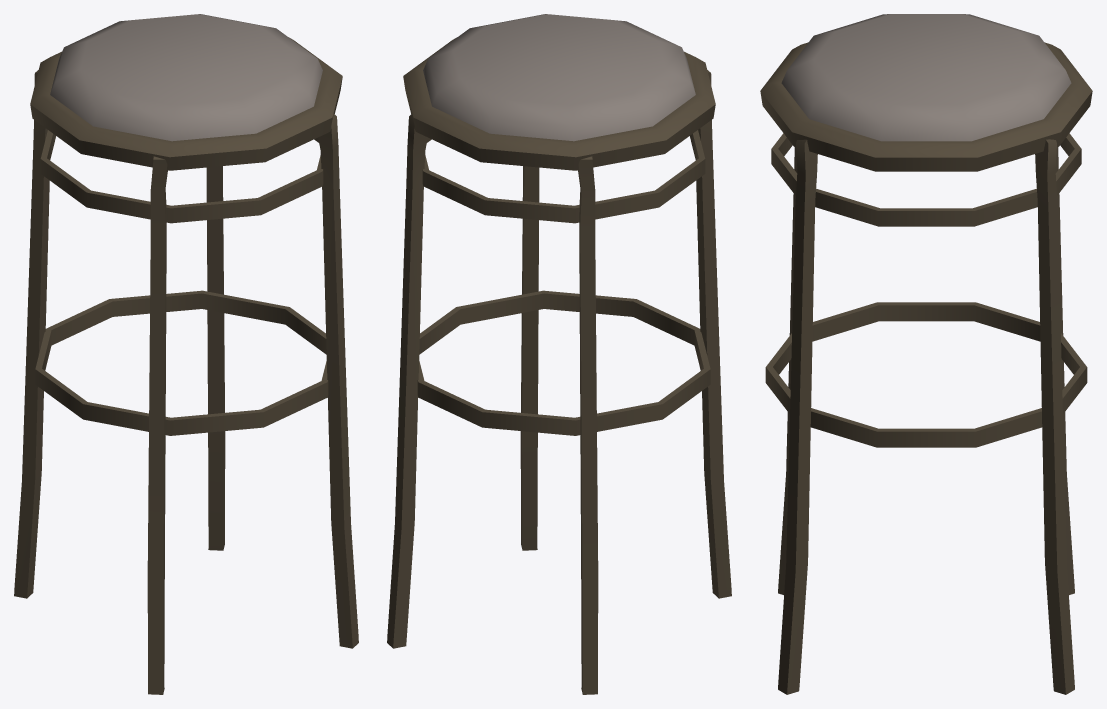
Rendered from Stool.glb.
3 renders of one model, left to right at view 1: azimuth 30°, elevation 25°; view 2: azimuth 150°, elevation 25°; view 3: azimuth 270°, elevation 25°, orthographic. The views are drawn at different scales.
Visible parts, largest first — view 1: Stool_Cylinder.028; view 2: Stool_Cylinder.028; view 3: Stool_Cylinder.028.
Boxes of the visible parts, x1,y1,x2,y2 form: Stool_Cylinder.028: [14, 14, 358, 694]; Stool_Cylinder.028: [387, 14, 731, 694]; Stool_Cylinder.028: [760, 14, 1092, 694].
Bounding box in the file's own units: 0.6753 × 1.37 × 0.71.
